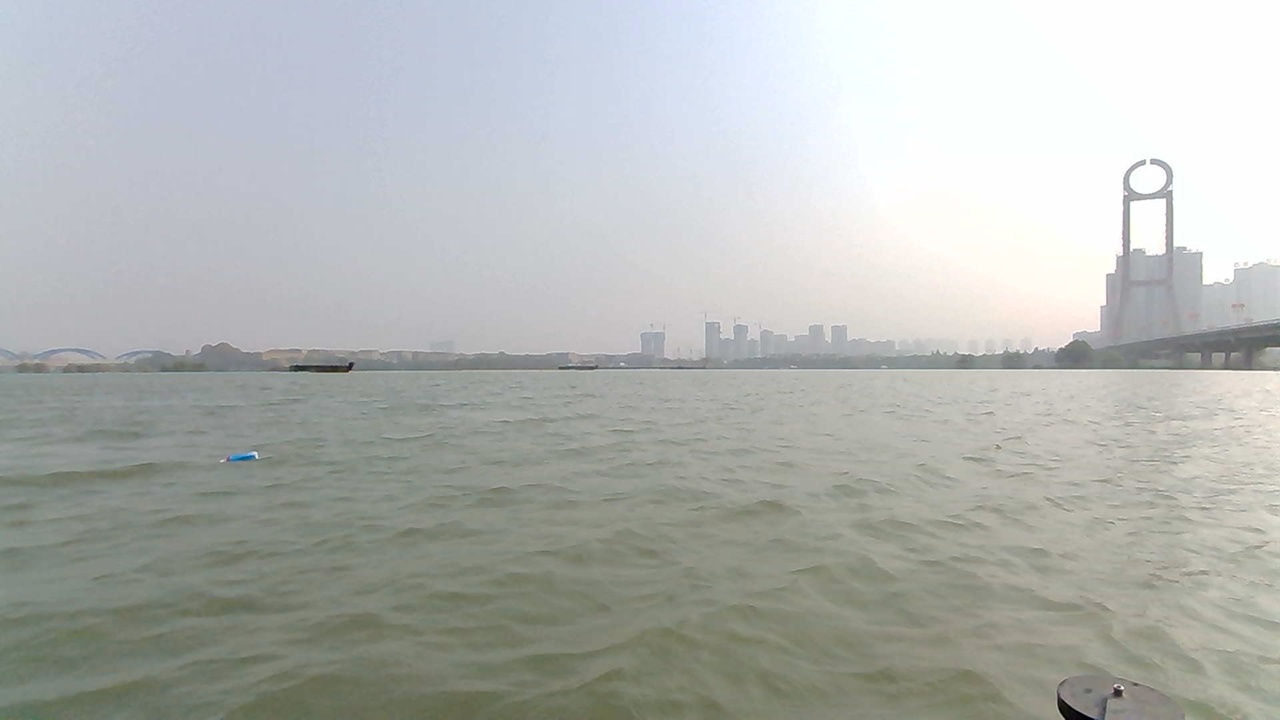bottle: (221, 449, 266, 471)
